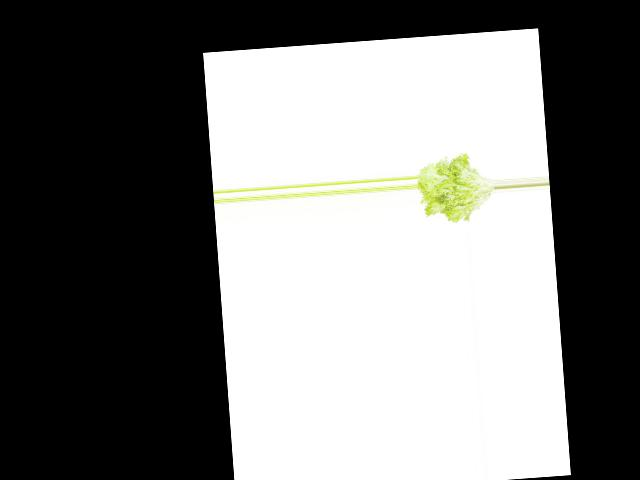lettuce: (415, 150, 498, 228)
